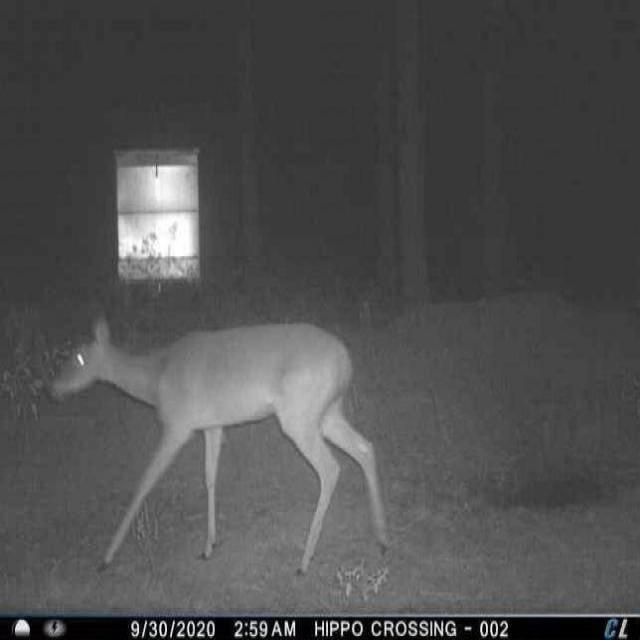deer: (48, 313, 396, 578)
